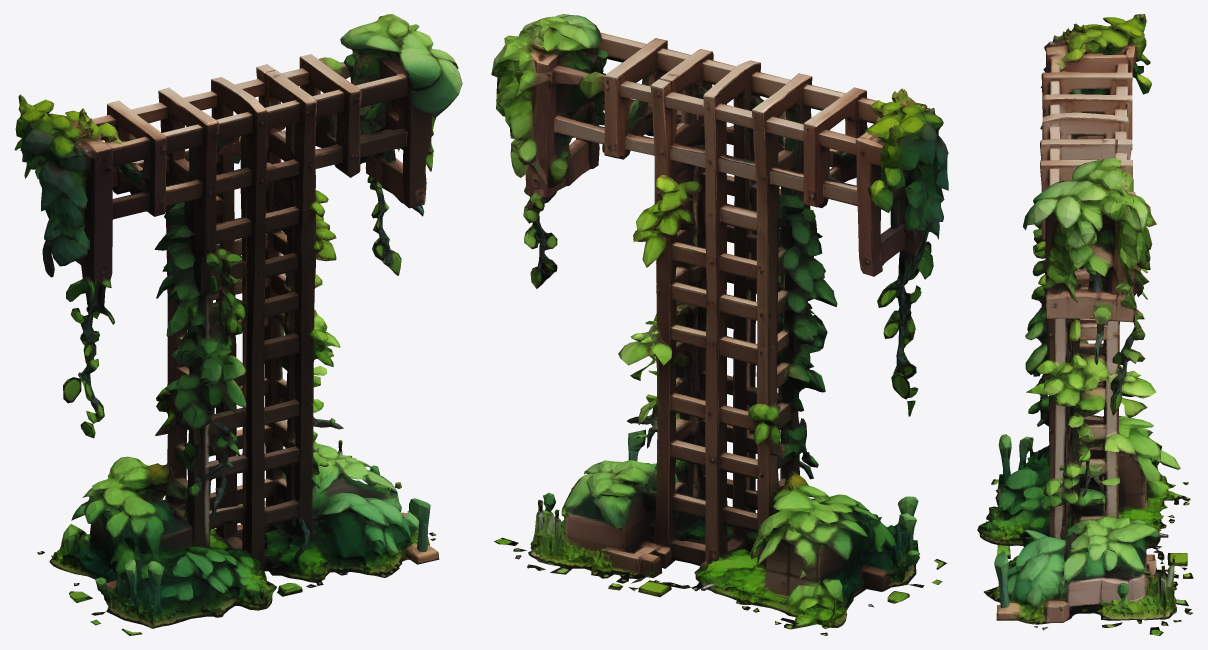
Rendered from sample.glb.
3 views of the same model, side by side, from view 1: azimuth 30°, elevation 25°; view 2: azimuth 150°, elevation 25°; view 3: azimuth 270°, elevation 25° (orthographic). The views are drawn at different scales.
Parts seen in each view (by area): view 1: world; view 2: world; view 3: world.
Part boxes in pixels (<box>): world: <box>14,14,462,635</box>; world: <box>491,14,948,635</box>; world: <box>977,14,1193,635</box>.
Bounding box in the file's own units: 0.8772 × 0.9971 × 0.4278.
Materials: 1 (1 with a texture image).
